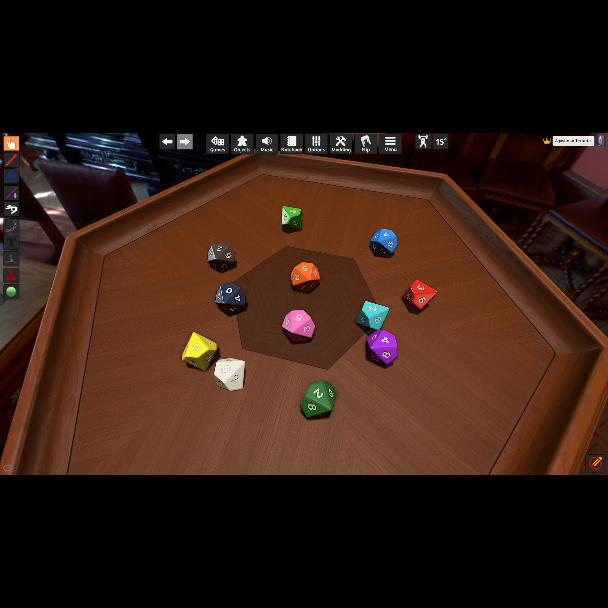d10: (182, 332, 218, 370), (301, 382, 335, 418), (214, 282, 246, 316), (366, 330, 396, 366), (282, 310, 314, 342), (213, 358, 245, 390), (405, 280, 437, 310), (356, 300, 388, 330), (206, 242, 236, 274), (290, 262, 320, 292), (370, 228, 396, 256), (282, 206, 302, 232)
